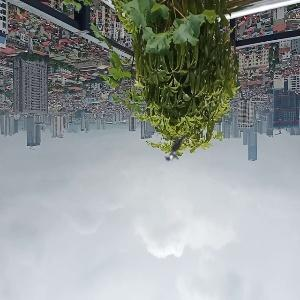drone: (110, 89, 236, 215)
